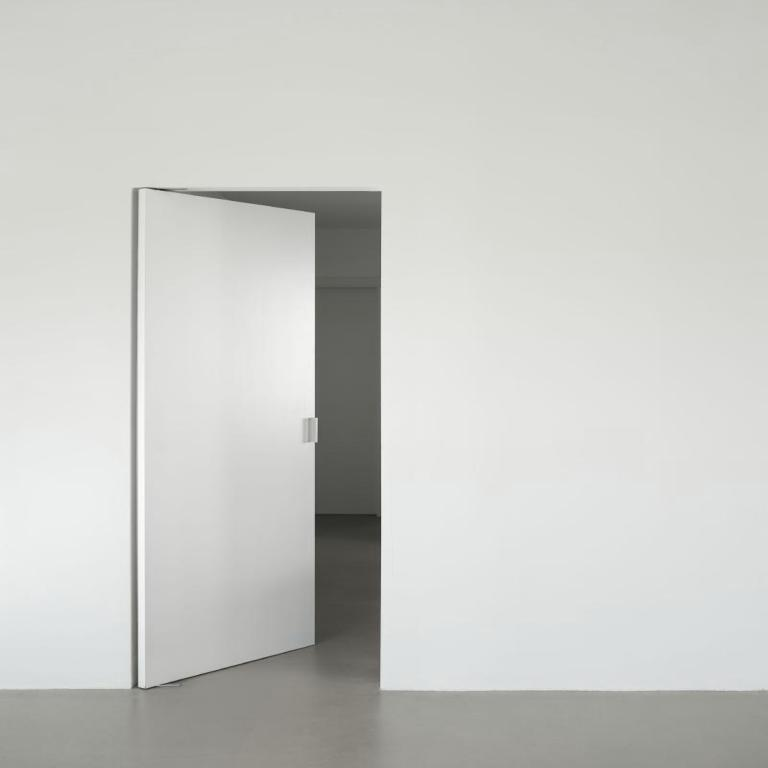white-walls: (25, 23, 745, 671)
